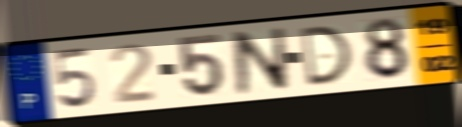2: (108, 41, 156, 105)
5: (174, 33, 227, 99), (50, 46, 98, 111)
8: (361, 16, 412, 83)
D: (297, 23, 354, 89)
N: (229, 25, 291, 97)
